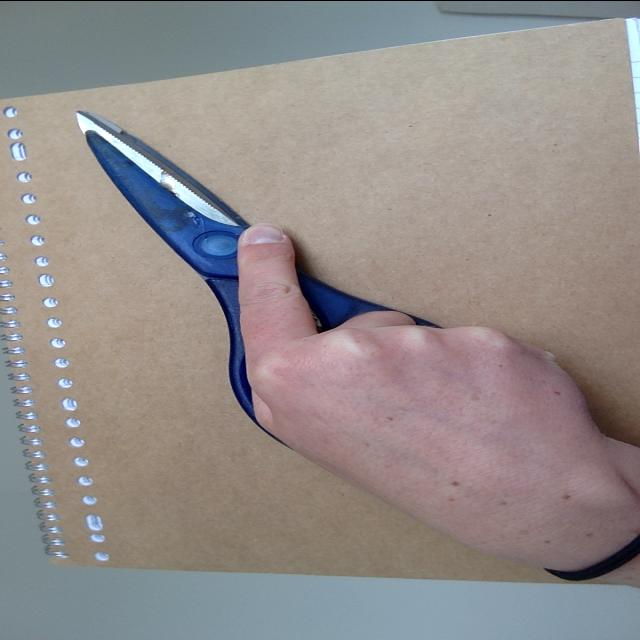scissor: (62, 106, 336, 324)
